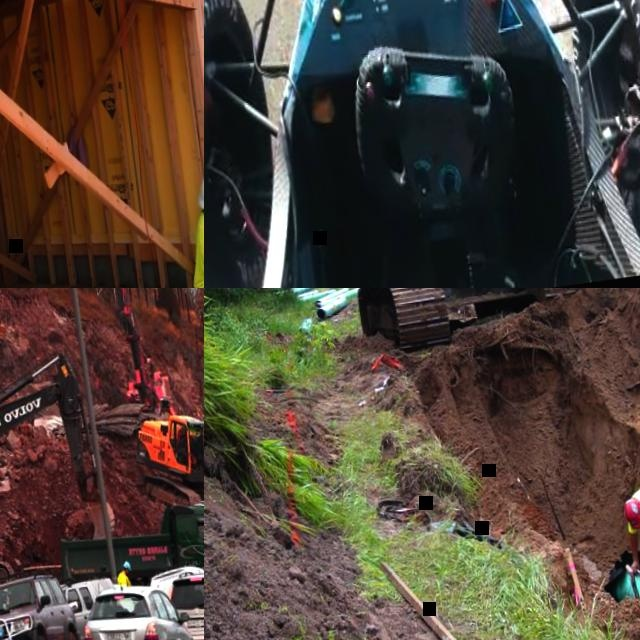Hardhat: (620, 497, 640, 532), (195, 169, 204, 212), (121, 561, 130, 572), (180, 429, 184, 435)
NO-Mask: (123, 571, 128, 577)
NO-Safety Vest: (191, 215, 204, 288)
Person: (617, 475, 640, 590), (114, 561, 131, 588), (174, 428, 186, 448)
Safety Vest: (620, 477, 640, 547), (116, 571, 131, 589), (174, 430, 183, 446)
machinery: (326, 288, 640, 640), (0, 346, 119, 601), (53, 497, 204, 596), (118, 398, 204, 556), (107, 288, 176, 421)
vehicle: (204, 0, 640, 288), (74, 578, 198, 640), (0, 569, 81, 640), (58, 576, 121, 640), (165, 564, 204, 640), (147, 565, 204, 599)
